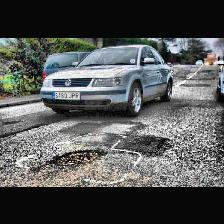pothole: (51, 148, 98, 166), (81, 130, 107, 136)
